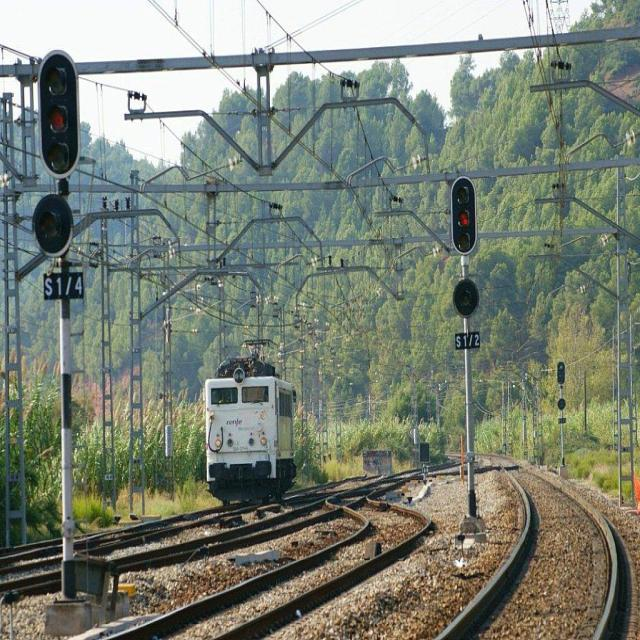traffic light: (38, 49, 78, 180), (451, 177, 477, 258)
